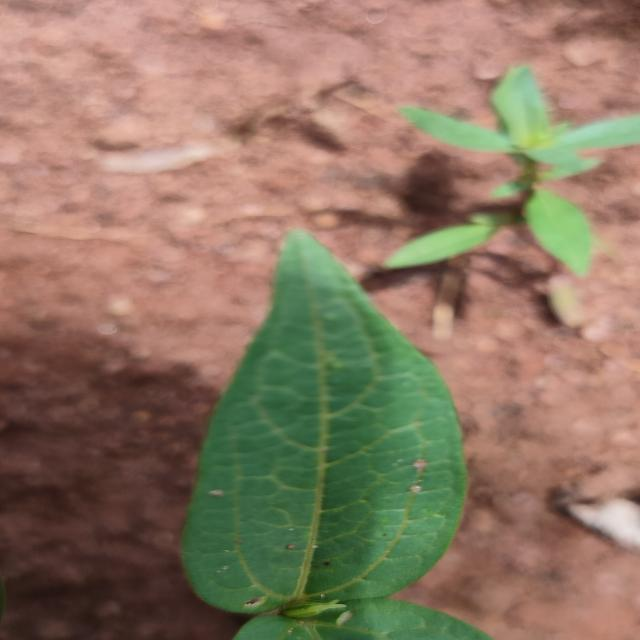Black gram_healthy: (171, 213, 517, 640)
